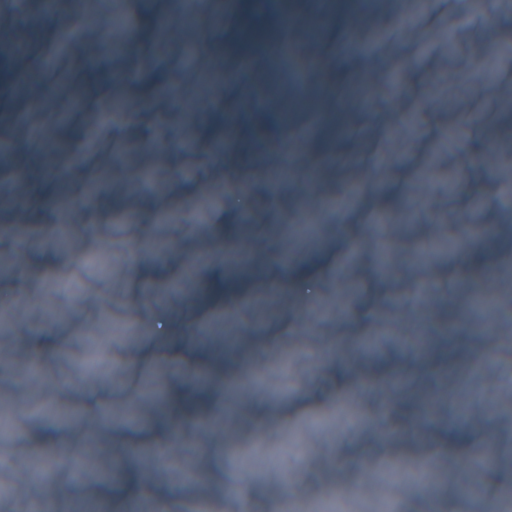Iceberg: (157, 322, 162, 328), (307, 289, 310, 292), (238, 200, 239, 201)
